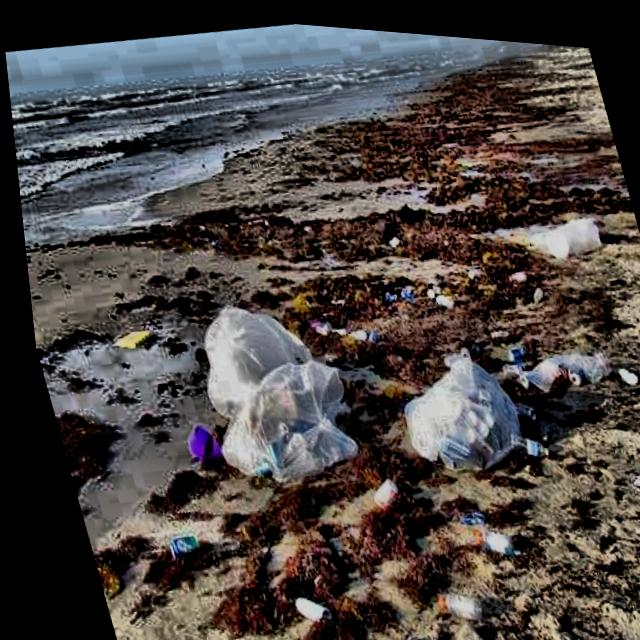Plastic: (169, 266, 370, 502), (380, 320, 534, 491)
